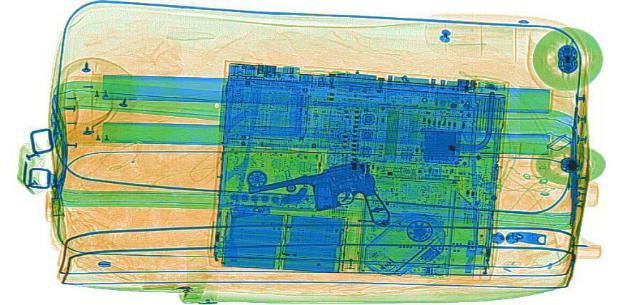Gun: (240, 159, 428, 242)
